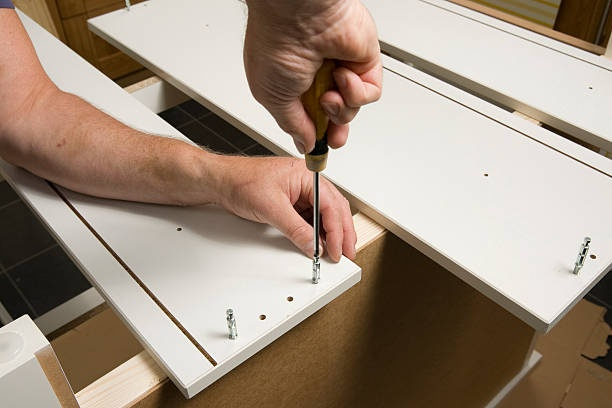screwdriver: (292, 54, 346, 262)
